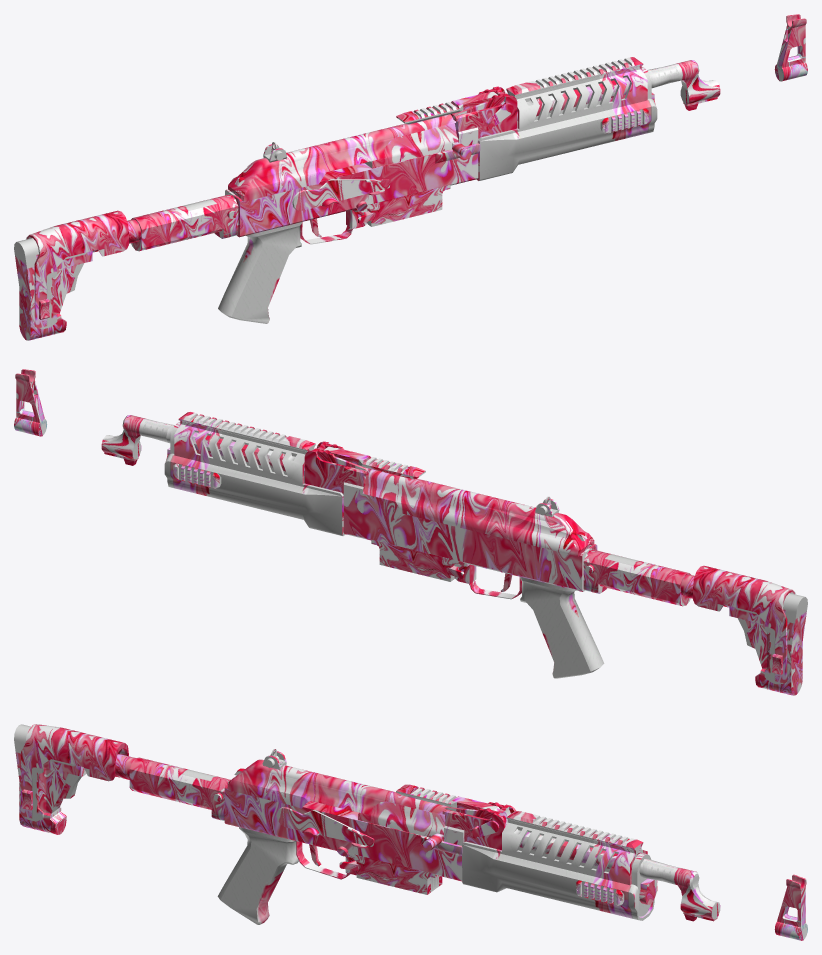
File: assaultriflemk2_aa.glb
The picture shows the model from 3 angles, top to bottom: view 1: azimuth 30°, elevation 25°; view 2: azimuth 150°, elevation 25°; view 3: azimuth 330°, elevation 25°; orthographic projection.
Parts seen in each view (by area): view 1: Gun_Root; view 2: Gun_Root; view 3: Gun_Root.
Part boxes in pixels (bbox=[...]): Gun_Root: bbox=[14, 14, 807, 340]; Gun_Root: bbox=[14, 369, 807, 695]; Gun_Root: bbox=[14, 724, 807, 940].
Bounding box in the file's own units: 0.873 × 0.1873 × 0.0659.
2 materials, 2 textured.
